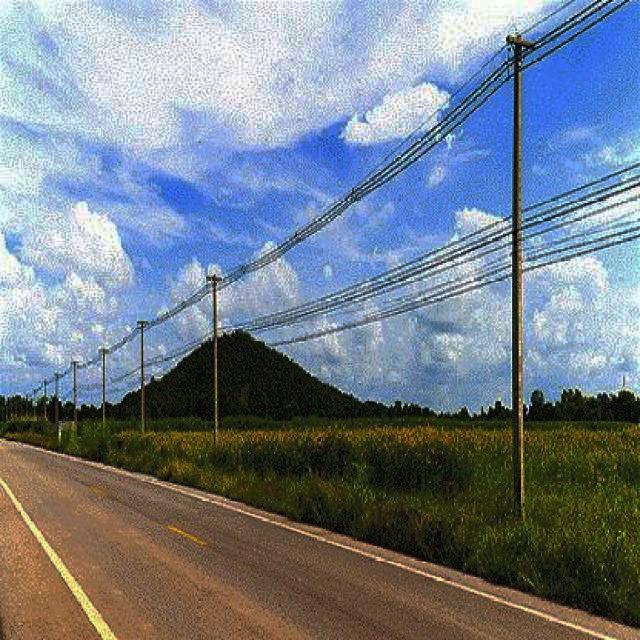poles: (479, 25, 553, 517), (199, 263, 239, 432)
wires: (218, 48, 515, 296), (217, 209, 504, 362), (527, 149, 634, 290), (522, 1, 639, 78)
